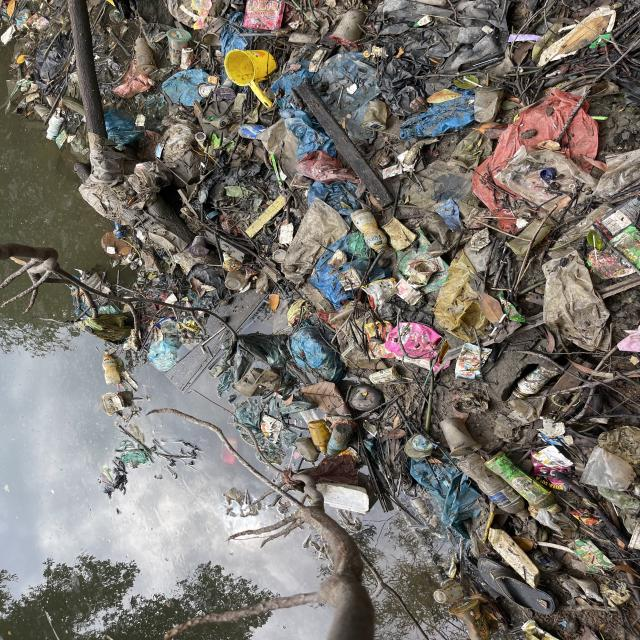Botol Plastik: (485, 451, 569, 516), (458, 454, 534, 523), (350, 209, 393, 255), (327, 423, 355, 460), (99, 353, 127, 387), (308, 419, 332, 458), (238, 125, 273, 143), (46, 116, 65, 142), (539, 169, 559, 182)
Bungkus Makanan: (315, 480, 378, 516), (358, 279, 406, 316), (454, 343, 494, 383), (363, 321, 400, 363), (286, 300, 319, 332)
Bungkus Minuman: (440, 418, 485, 458), (330, 8, 368, 51), (472, 84, 508, 125), (164, 29, 195, 69), (133, 38, 161, 78), (361, 101, 390, 134), (365, 366, 405, 389), (406, 435, 435, 464), (407, 261, 437, 288), (222, 271, 250, 292), (410, 496, 434, 520), (219, 76, 241, 102), (295, 437, 317, 463), (221, 252, 245, 274), (189, 236, 211, 258), (196, 83, 222, 99), (180, 48, 197, 72), (203, 116, 232, 130), (54, 129, 71, 150)
Kantong Plastik: (537, 252, 616, 354), (406, 454, 487, 536), (434, 251, 503, 343), (375, 28, 443, 119), (282, 198, 352, 286), (261, 117, 327, 182), (287, 327, 347, 382), (293, 151, 364, 189), (160, 69, 214, 115), (34, 32, 70, 95), (116, 60, 159, 103), (102, 109, 148, 148), (147, 334, 184, 373), (115, 438, 154, 468)
